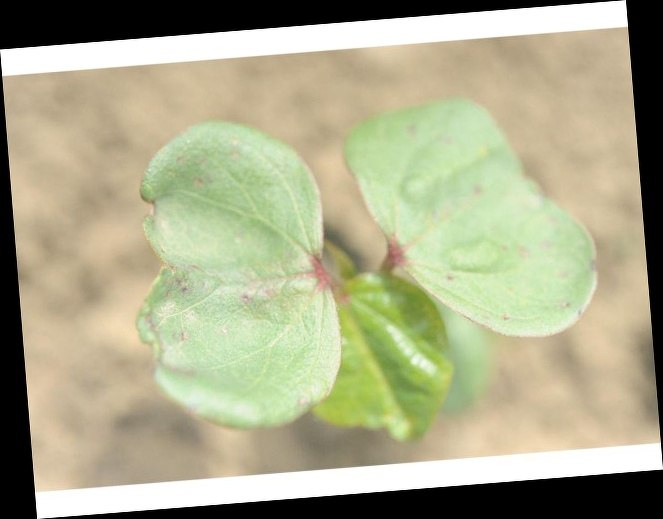cotton: (133, 104, 596, 445)
